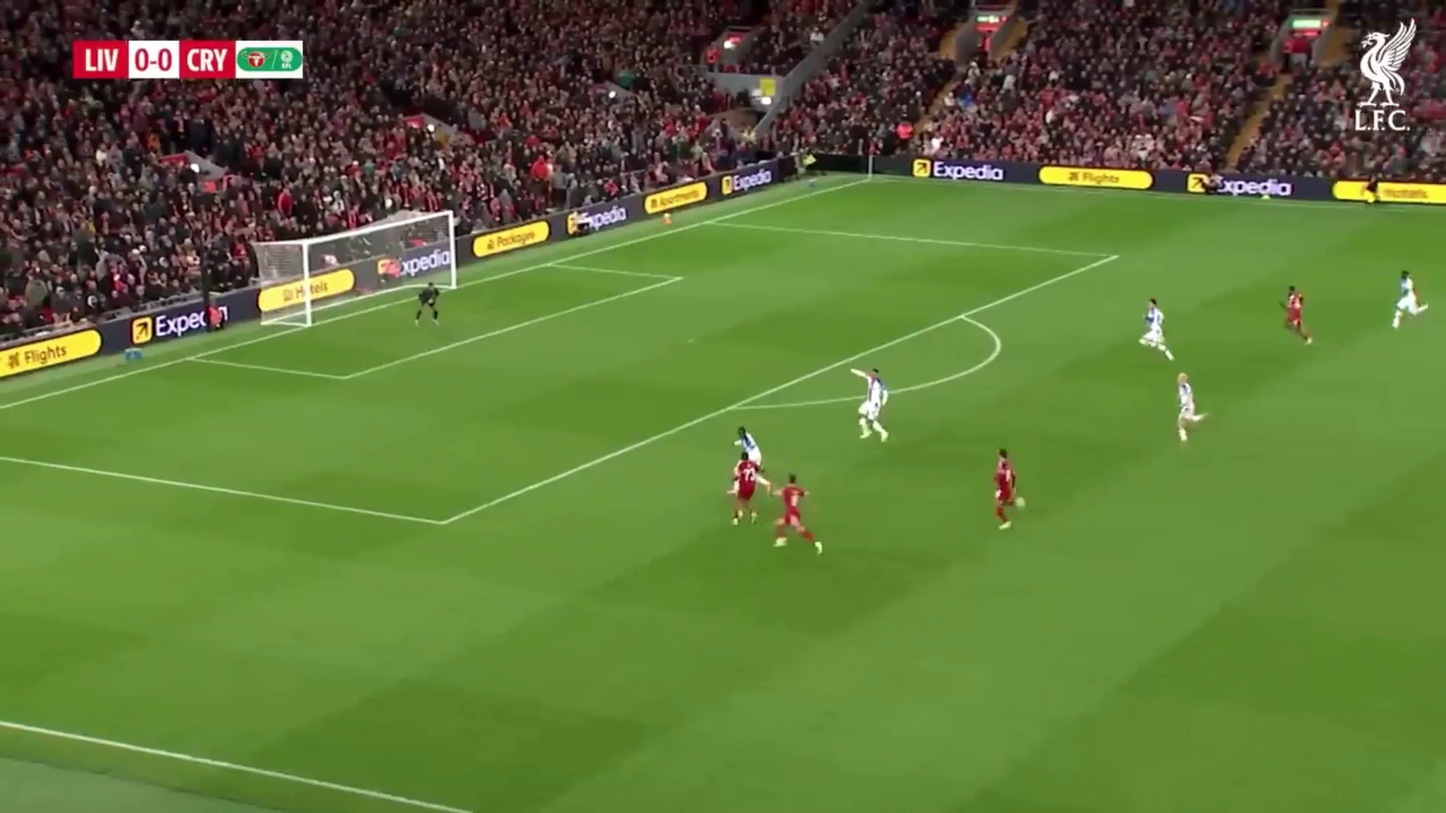player: (770, 476, 823, 554), (728, 426, 765, 528), (729, 453, 765, 526), (857, 369, 891, 443), (991, 446, 1019, 530), (1139, 298, 1174, 362), (1391, 271, 1426, 328), (1175, 373, 1200, 444), (1283, 285, 1311, 342), (1140, 299, 1167, 350), (1175, 372, 1198, 427), (416, 285, 441, 325)
